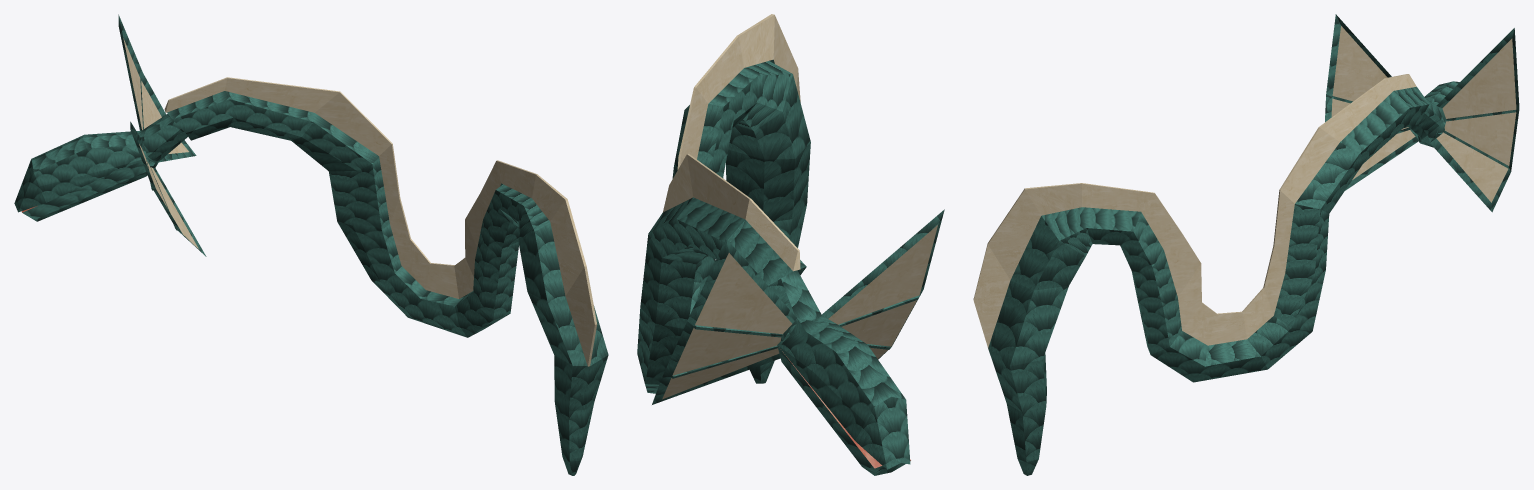
Rendered from corpse.fbx.
3 renders of one model, left to right at view 1: azimuth 30°, elevation 25°; view 2: azimuth 150°, elevation 25°; view 3: azimuth 270°, elevation 25°, orthographic. The views are drawn at different scales.
Parts seen in each view (by area): view 1: Ded; view 2: Ded; view 3: Ded.
Boxes of the visible parts, x1=… form: Ded: x1=14, y1=14, x2=608, y2=475; Ded: x1=637, y1=14, x2=944, y2=475; Ded: x1=973, y1=14, x2=1519, y2=475.
Bounding box in the file's own units: 18519 × 16540 × 23981.
